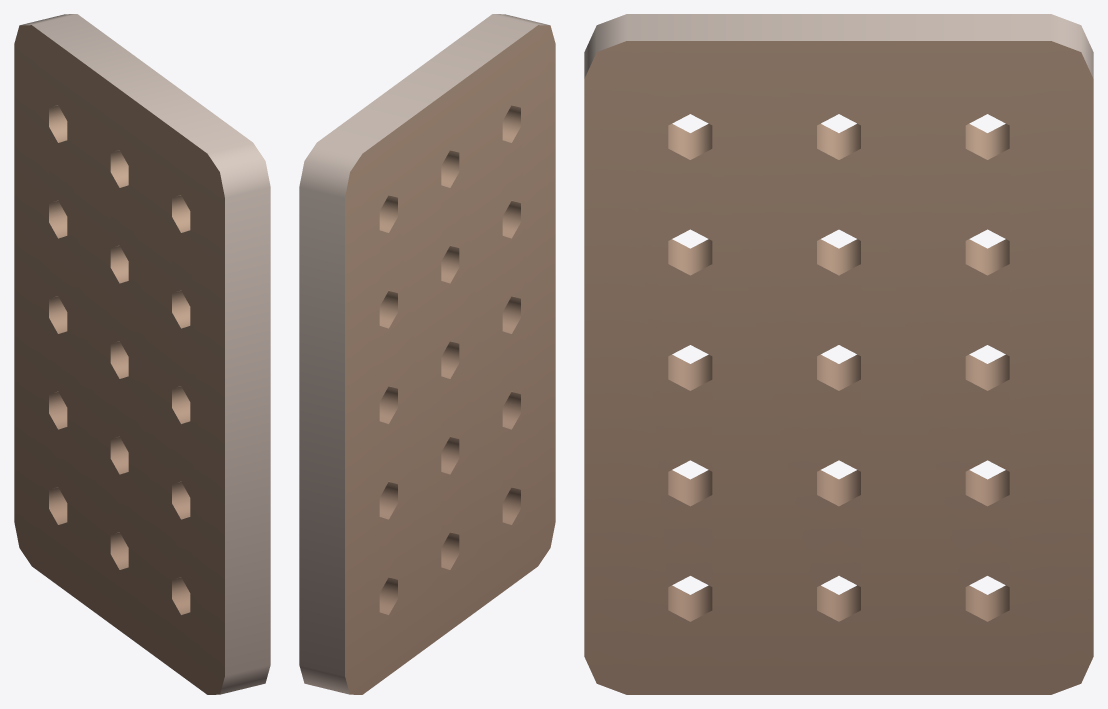
Rendered from pegboard (%wall).glb.
The picture shows the model from 3 angles, left to right: view 1: azimuth 30°, elevation 25°; view 2: azimuth 150°, elevation 25°; view 3: azimuth 270°, elevation 25°; orthographic projection. The views are drawn at different scales.
Parts seen in each view (by area): view 1: pegboard (%wall); view 2: pegboard (%wall); view 3: pegboard (%wall).
Boxes of the visible parts, x1,y1,x2,y2 form: pegboard (%wall): (14, 14, 270, 694); pegboard (%wall): (299, 14, 555, 694); pegboard (%wall): (584, 14, 1093, 694).
Bounding box in the file's own units: 0.075 × 0.85 × 0.6.
